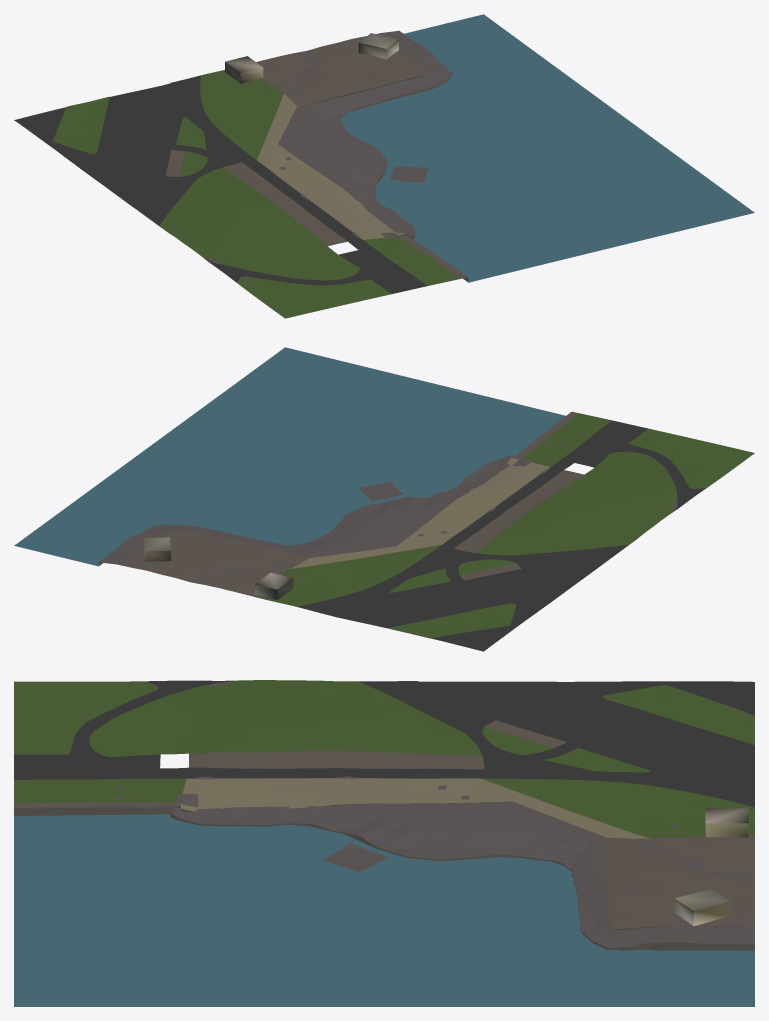
The picture shows the model from 3 angles, top to bottom: view 1: azimuth 30°, elevation 25°; view 2: azimuth 150°, elevation 25°; view 3: azimuth 270°, elevation 25°; orthographic projection. The views are drawn at different scales.
Parts seen in each view (by area): view 1: c_p04_m11; view 2: c_p04_m11; view 3: c_p04_m11, append:c_p04_m11.
Boxes of the visible parts, <box> form: c_p04_m11: <box>14,14,754,318</box>; c_p04_m11: <box>14,347,754,651</box>; c_p04_m11: <box>14,680,754,1006</box>; append:c_p04_m11: <box>14,807,754,950</box>.
Bounding box in the file's own units: 128 × 4.71 × 128.
